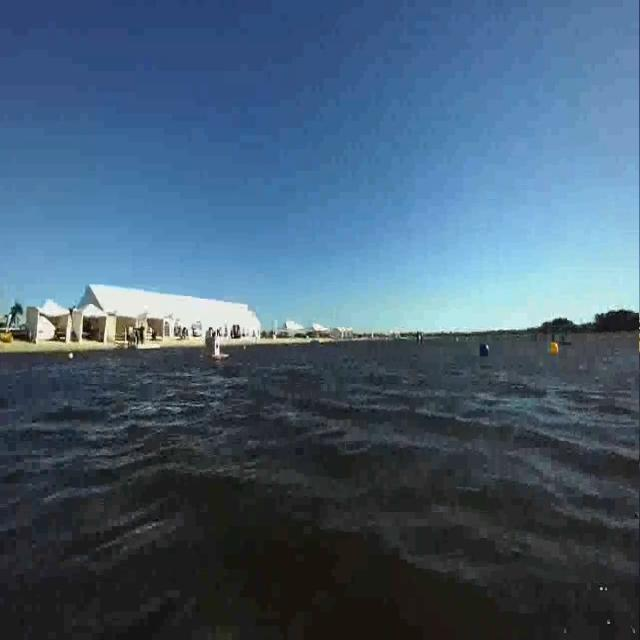black-buoy: (546, 341, 562, 356), (479, 342, 490, 357)
blue-buoy: (479, 343, 489, 357)
yellow-buoy: (546, 338, 561, 358)
